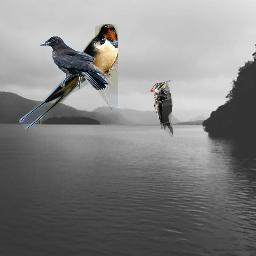Crow: (40, 36, 109, 90)
Swallow: (19, 24, 118, 129)
Woodpecker: (150, 80, 173, 138)
